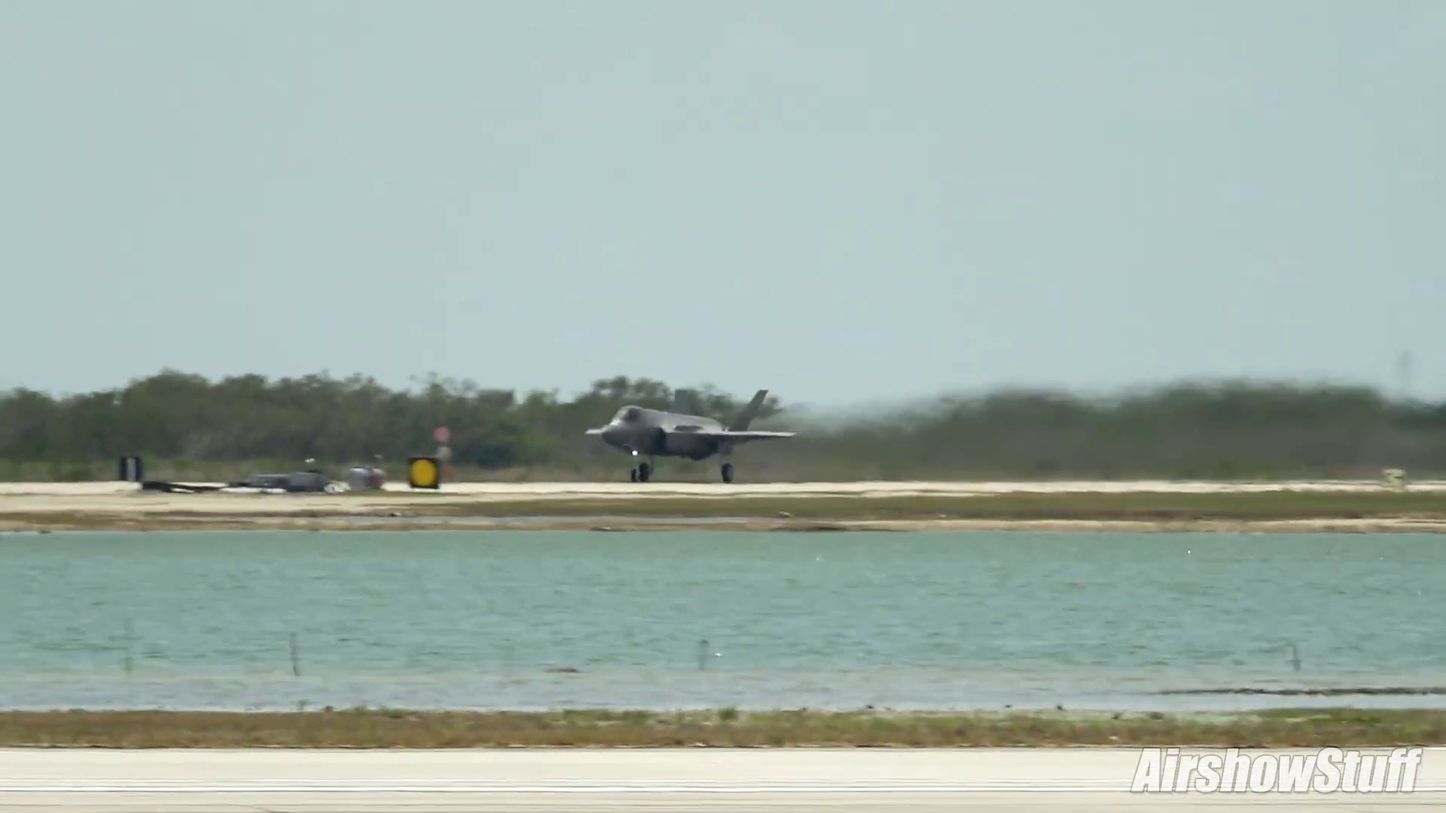F35: (578, 382, 803, 484)
